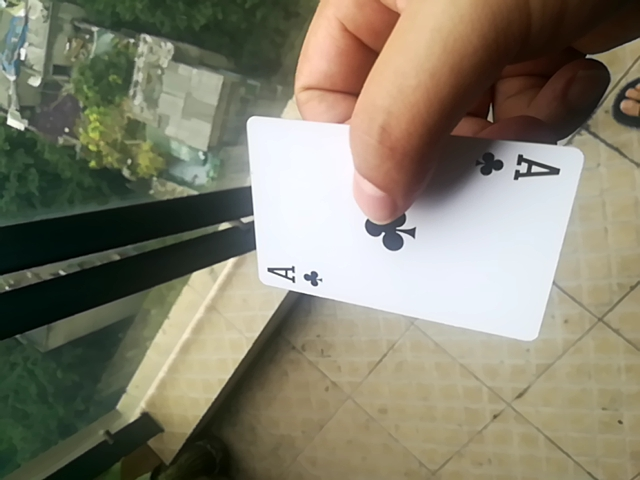mh a: (238, 107, 592, 344)
